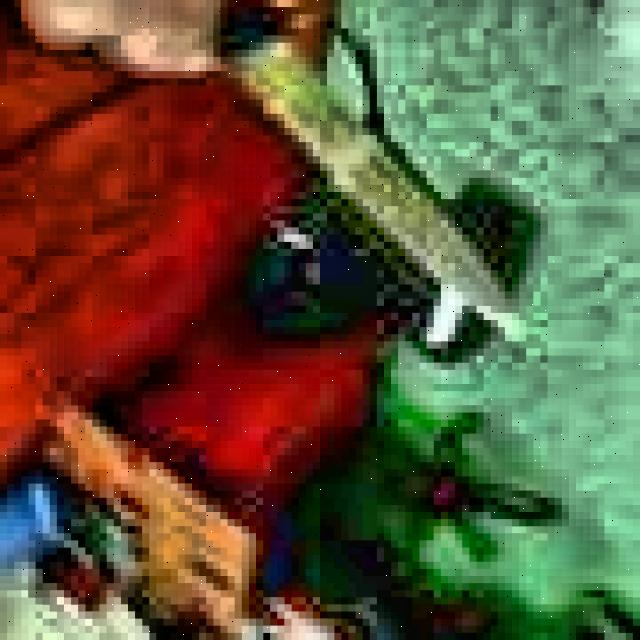knife: (213, 0, 519, 334)
